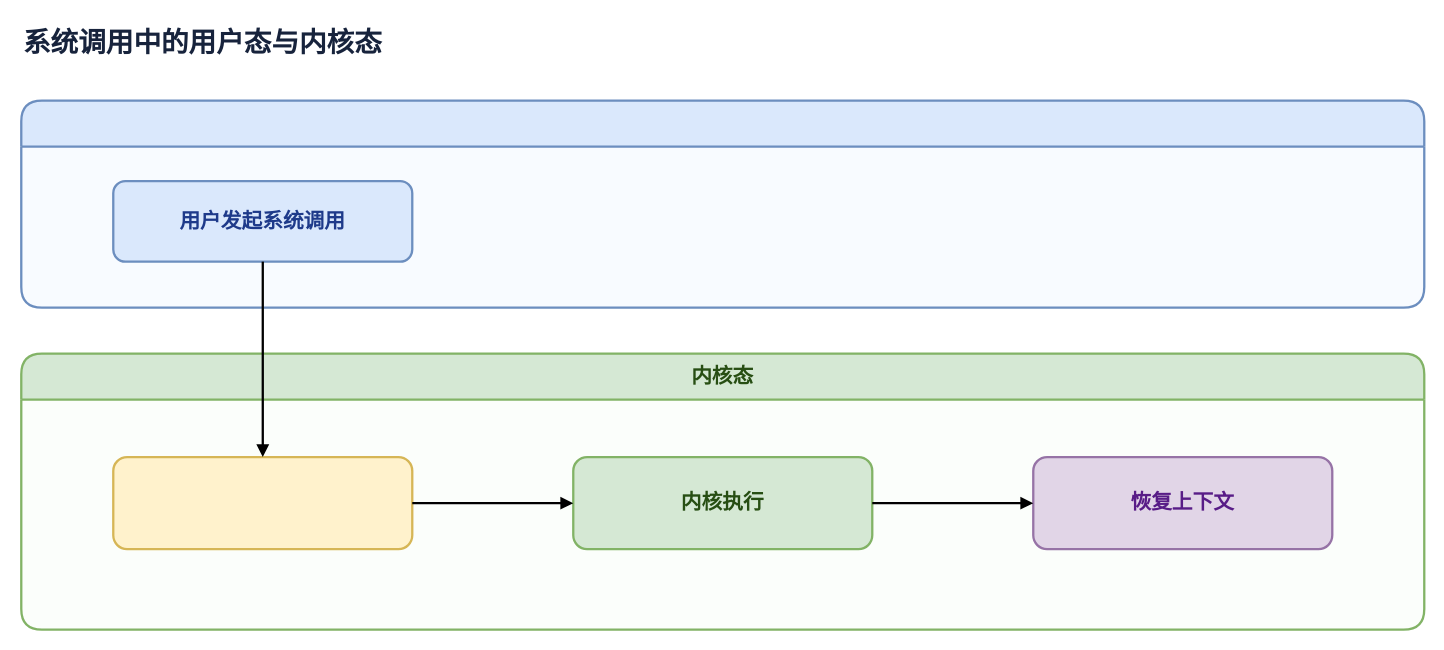
This 1444x650 diagram has some shape labels left out. The box of each missing label's shape, as (x1, y1, x2, y2) in pixels:
保存上下文: (112, 455, 413, 550)
用户态: (20, 99, 1425, 308)
